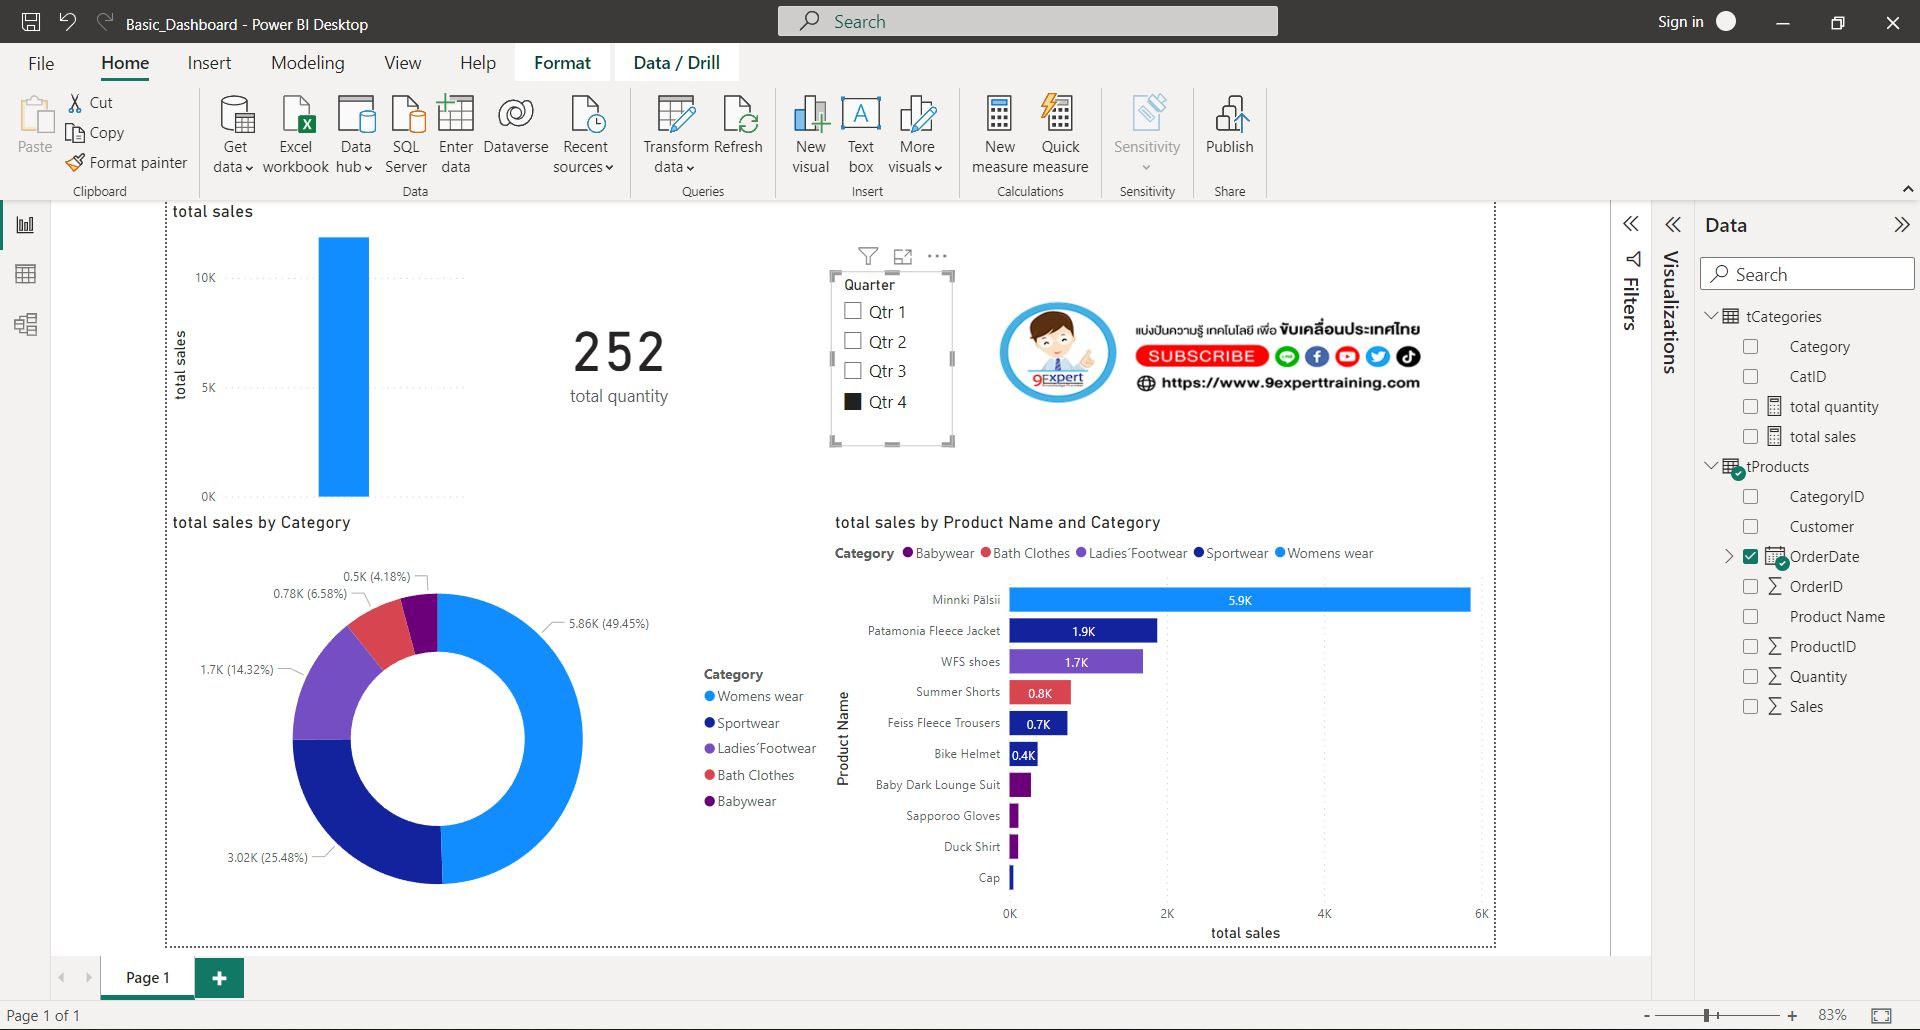

This screenshot's page, from the dashboard's own definition file:
{"tool":"powerbi","page":{"name":"Page 1","canvas":[1280,720],"ordinal":0},"visuals":[{"type":"columnChart","fields":{"Y":["tCategories.total sales"]},"box":[0,0,291.9,300.3],"z":0},{"type":"card","fields":{"Values":["tCategories.total quantity"]},"box":[291.9,0,288.2,300.3],"z":1000},{"type":"donutChart","fields":{"Y":["tCategories.total sales"],"Category":["tCategories.Category"]},"box":[0,300.5,640.8,419.9],"z":2000},{"type":"slicer","fields":{"Values":["tProducts.OrderDate.Variation.Date Hierarchy.Quarter"]},"box":[640.8,68.6,118,168.8],"z":3000},{"type":"barChart","fields":{"Category":["tProducts.Product Name"],"Y":["tCategories.total sales"],"Series":["tCategories.Category"]},"box":[639.5,300.5,640.8,419.9],"z":4000},{"type":"image","box":[759,69,521,169],"z":5000}]}

Visuals, with their boxes on the page's 1280x720 design canvas (x1, y1, x2, y2). These are canvas units, not pixel positions in the 1920x1030 screenshot, which may show the page scaled, cropped or inside an application window:
columnChart - tCategories.total sales: bbox=(0, 0, 292, 300)
card - tCategories.total quantity: bbox=(292, 0, 580, 300)
donutChart - tCategories.total sales x tCategories.Category: bbox=(0, 300, 641, 720)
slicer - tProducts.OrderDate.Variation.Date Hierarchy.Quarter: bbox=(641, 69, 759, 237)
barChart - tProducts.Product Name x tCategories.total sales: bbox=(640, 300, 1280, 720)
image: bbox=(759, 69, 1280, 238)
